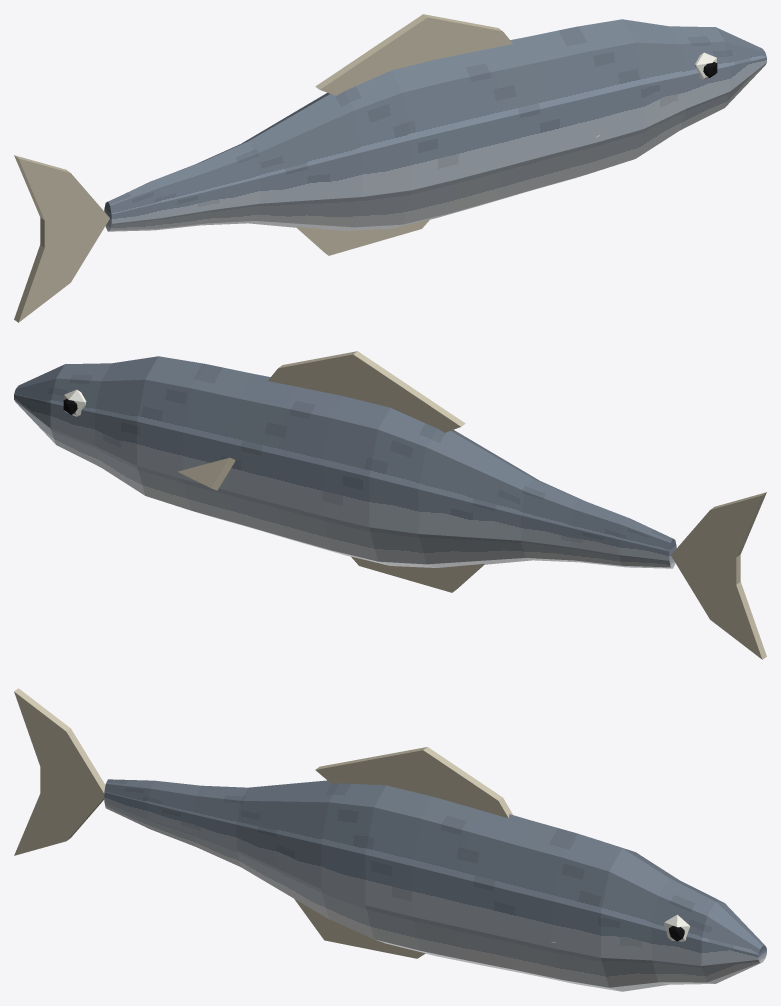
The model's file is threadfin_salmon.glb.
3 renders of one model, top to bottom at view 1: azimuth 30°, elevation 25°; view 2: azimuth 150°, elevation 25°; view 3: azimuth 330°, elevation 25°, orthographic.
Visible parts, largest first — view 1: fish_threadfin_salmon; view 2: fish_threadfin_salmon; view 3: fish_threadfin_salmon.
Boxes of the visible parts, box(x1,y1,x2,y2) form: fish_threadfin_salmon: box(14, 14, 766, 322); fish_threadfin_salmon: box(14, 351, 766, 659); fish_threadfin_salmon: box(14, 688, 766, 991).
Size of the model in its own units: 1.14 by 0.3129 by 0.1501.
Materials: 4 (1 with a texture image).
